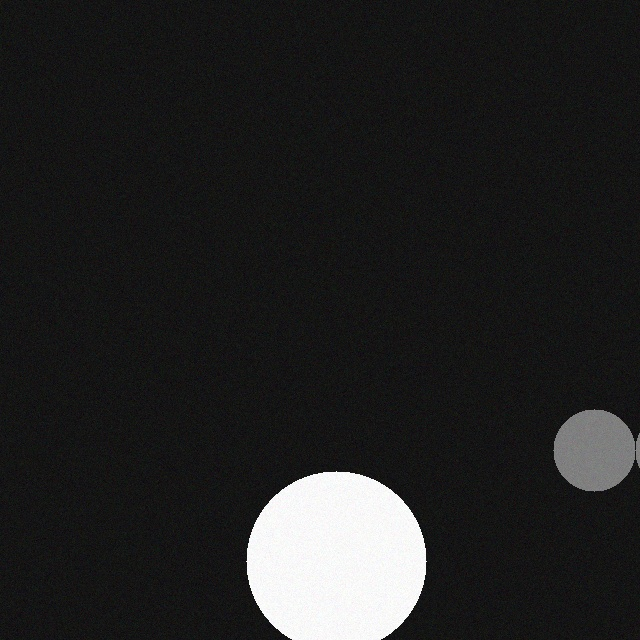circle: (250, 458, 430, 638), (557, 396, 639, 478)
